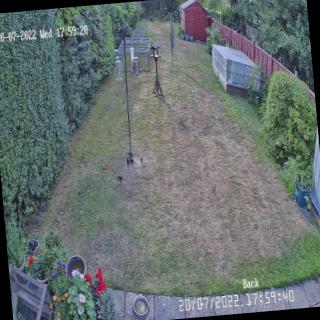bird: (125, 157, 131, 168), (118, 174, 124, 183), (128, 150, 134, 158), (130, 158, 134, 166)
